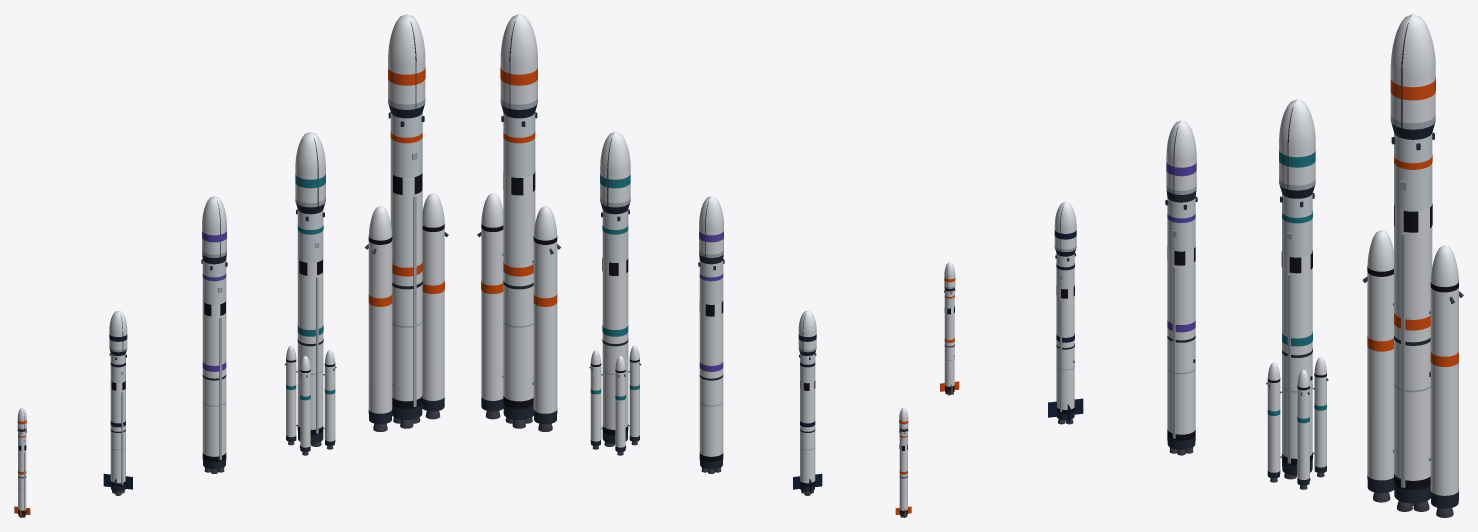
The model's file is rockets.glb.
The picture shows the model from 3 angles, left to right: view 1: azimuth 30°, elevation 25°; view 2: azimuth 150°, elevation 25°; view 3: azimuth 330°, elevation 25°; orthographic projection. The views are drawn at different scales.
Visible parts, largest first — view 1: titan_s1, titan_b1, titan_b0, rideshare_s1, atlant_s1, titan_fair_b, titan_s2, vector_s1, atlant_fair_b, atlant_s2, rideshare_s2, atlant_b3 (+8 smaller); view 2: titan_s1, titan_b1, titan_b0, rideshare_s1, atlant_s1, titan_fair_b, titan_s2, vector_s1, atlant_fair_b, atlant_s2, rideshare_s2, atlant_b0 (+8 smaller); view 3: titan_s1, titan_b0, titan_b1, rideshare_s1, atlant_s1, titan_fair_a, titan_s2, vector_s1, atlant_fair_a, atlant_s2, rideshare_s2, atlant_b2 (+8 smaller).
Part boxes in pixels (<box>): titan_s1: <box>390,171,422,428</box>; titan_b1: <box>365,206,393,431</box>; titan_b0: <box>422,193,448,419</box>; rideshare_s1: <box>202,300,226,473</box>; atlant_s1: <box>297,257,323,447</box>; titan_fair_b: <box>388,14,415,109</box>; titan_s2: <box>388,104,424,177</box>; vector_s1: <box>103,380,132,495</box>; atlant_fair_b: <box>295,132,318,207</box>; atlant_s2: <box>295,202,325,262</box>; rideshare_s2: <box>201,253,227,304</box>; atlant_b3: <box>323,350,336,449</box>; titan_s1: <box>503,171,535,428</box>; titan_b1: <box>532,206,560,431</box>; titan_b0: <box>477,193,503,419</box>; rideshare_s1: <box>699,300,723,473</box>; atlant_s1: <box>602,257,628,447</box>; titan_fair_b: <box>510,14,537,109</box>; titan_s2: <box>501,104,537,177</box>; vector_s1: <box>793,380,822,495</box>; atlant_fair_b: <box>607,132,630,207</box>; atlant_s2: <box>600,202,630,262</box>; rideshare_s2: <box>698,253,724,304</box>; atlant_b0: <box>589,350,602,449</box>; titan_s1: <box>1394,203,1432,511</box>; titan_b0: <box>1429,245,1463,517</box>; titan_b1: <box>1362,229,1394,502</box>; rideshare_s1: <box>1167,246,1195,455</box>; atlant_s1: <box>1281,250,1312,480</box>; titan_fair_a: <box>1402,14,1435,129</box>; titan_s2: <box>1391,122,1435,211</box>; vector_s1: <box>1048,285,1083,424</box>; atlant_fair_a: <box>1288,99,1315,190</box>; atlant_s2: <box>1279,185,1314,257</box>; rideshare_s2: <box>1165,190,1197,251</box>; atlant_b2: <box>1266,362,1282,482</box>.
Bounding box in the file's own units: 71.22 × 65 × 6.05.
